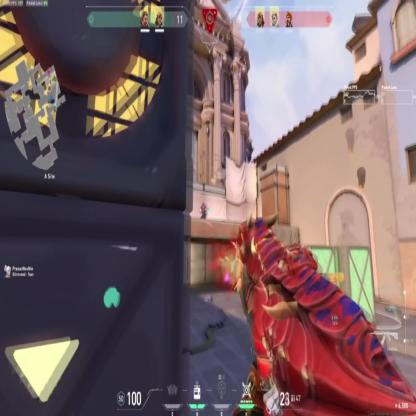enemy: (200, 201, 206, 220)
enemy_head: (202, 202, 204, 206)
